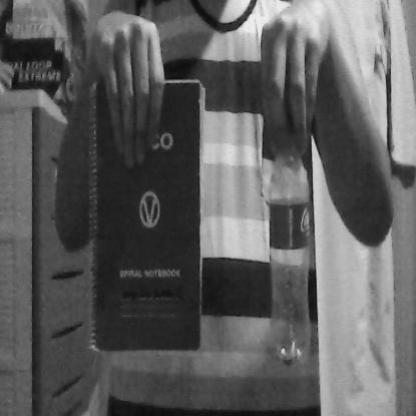Plastic Bottle: (263, 118, 315, 376)
